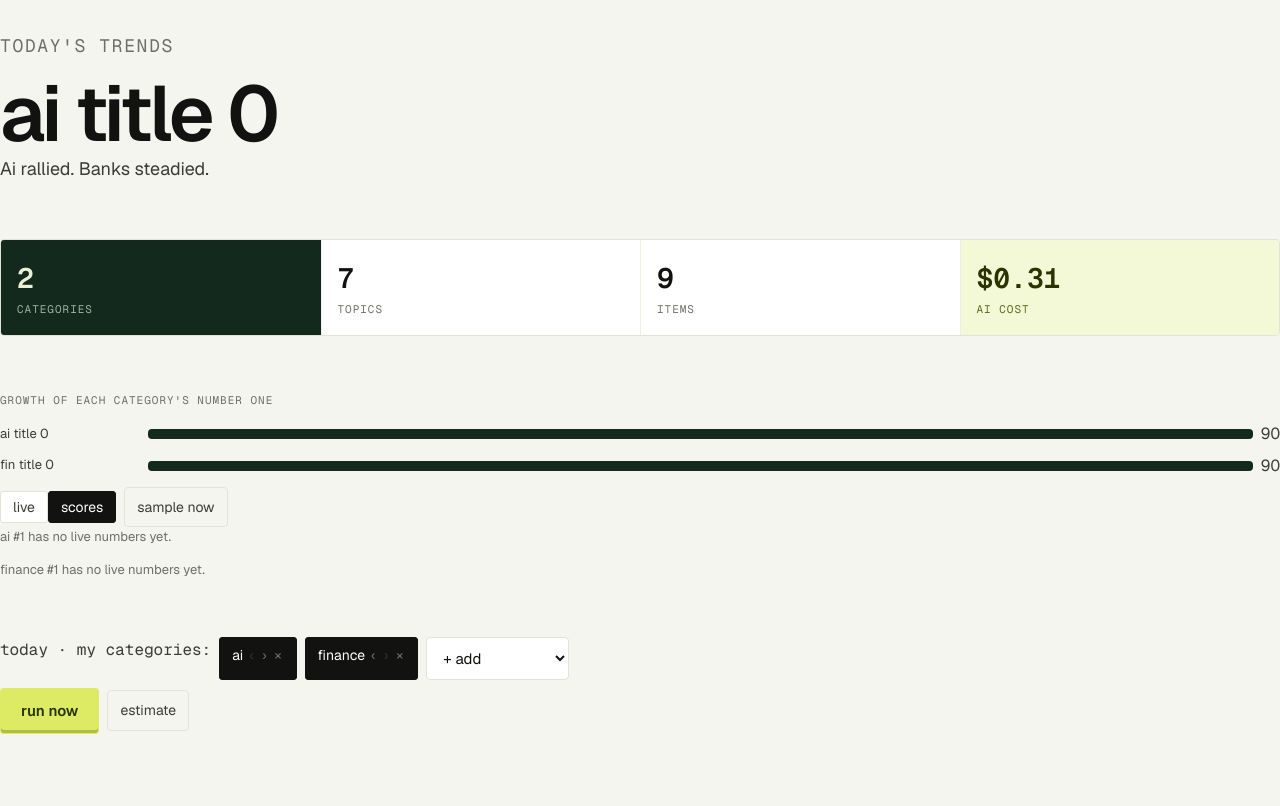
TOP5-25 estimate popover › shows the per-category estimate
Click the button "estimate". click: (148, 711)
box: [108, 690, 189, 731]
(page scrolled)
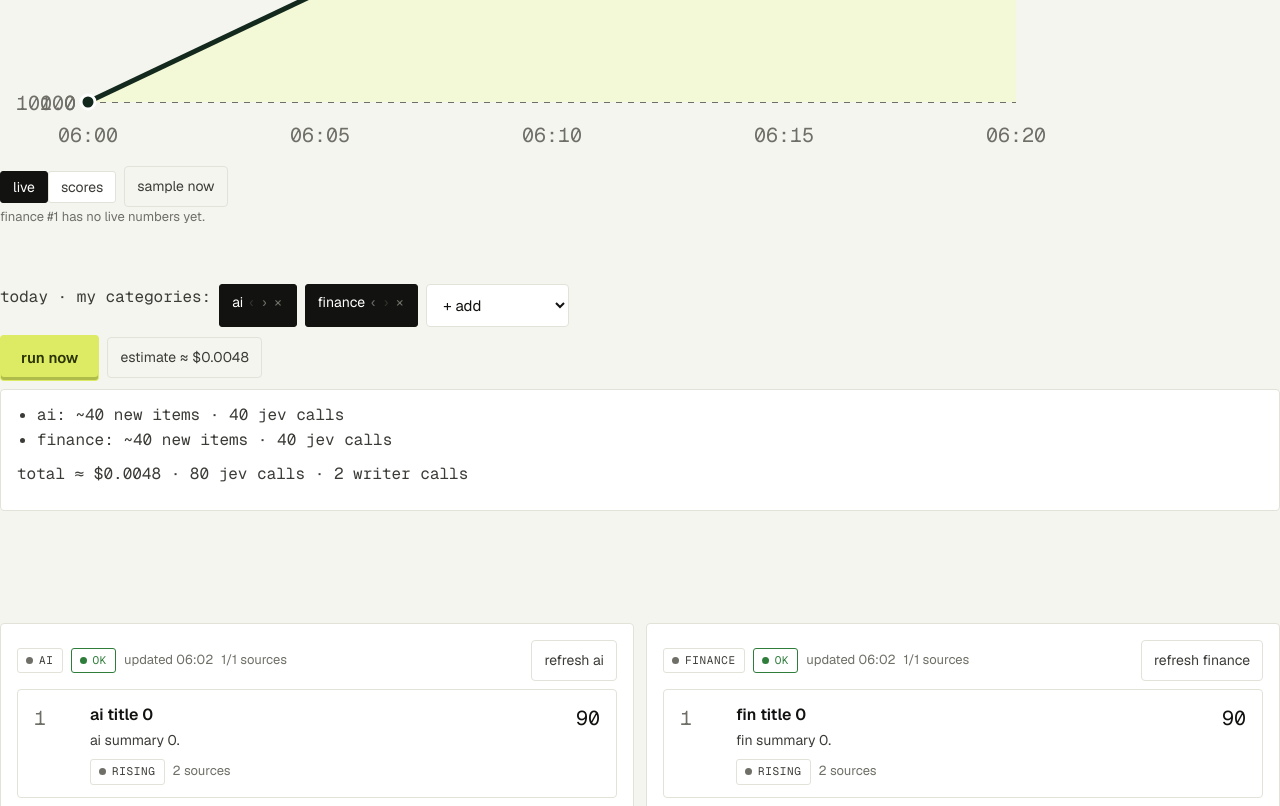
Now the dialog named "run estimate" shows "ai:", box [0, 389, 1279, 512]
Now the dialog named "run estimate" shows "finance:", box [0, 389, 1279, 512]
Now the dialog named "run estimate" shows "0.0048", box [103, 463, 161, 484]
